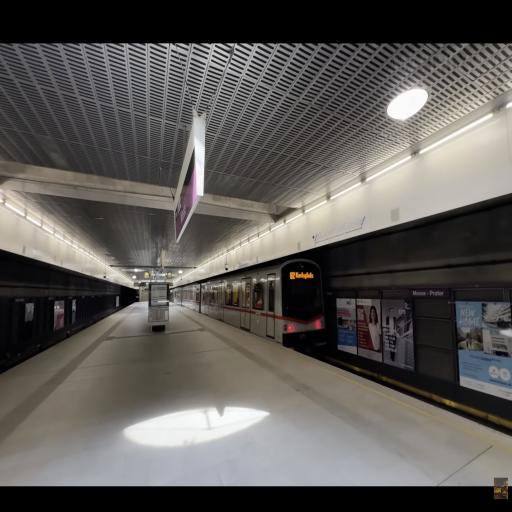V-Wagen: (173, 255, 325, 346)
